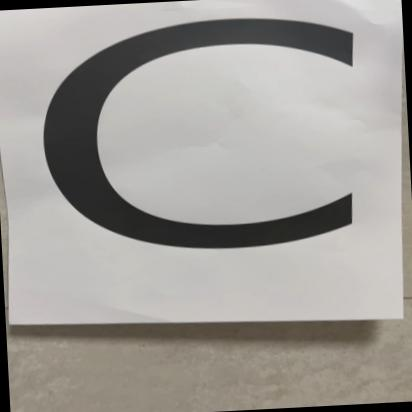seat: (3, 5, 406, 329)
